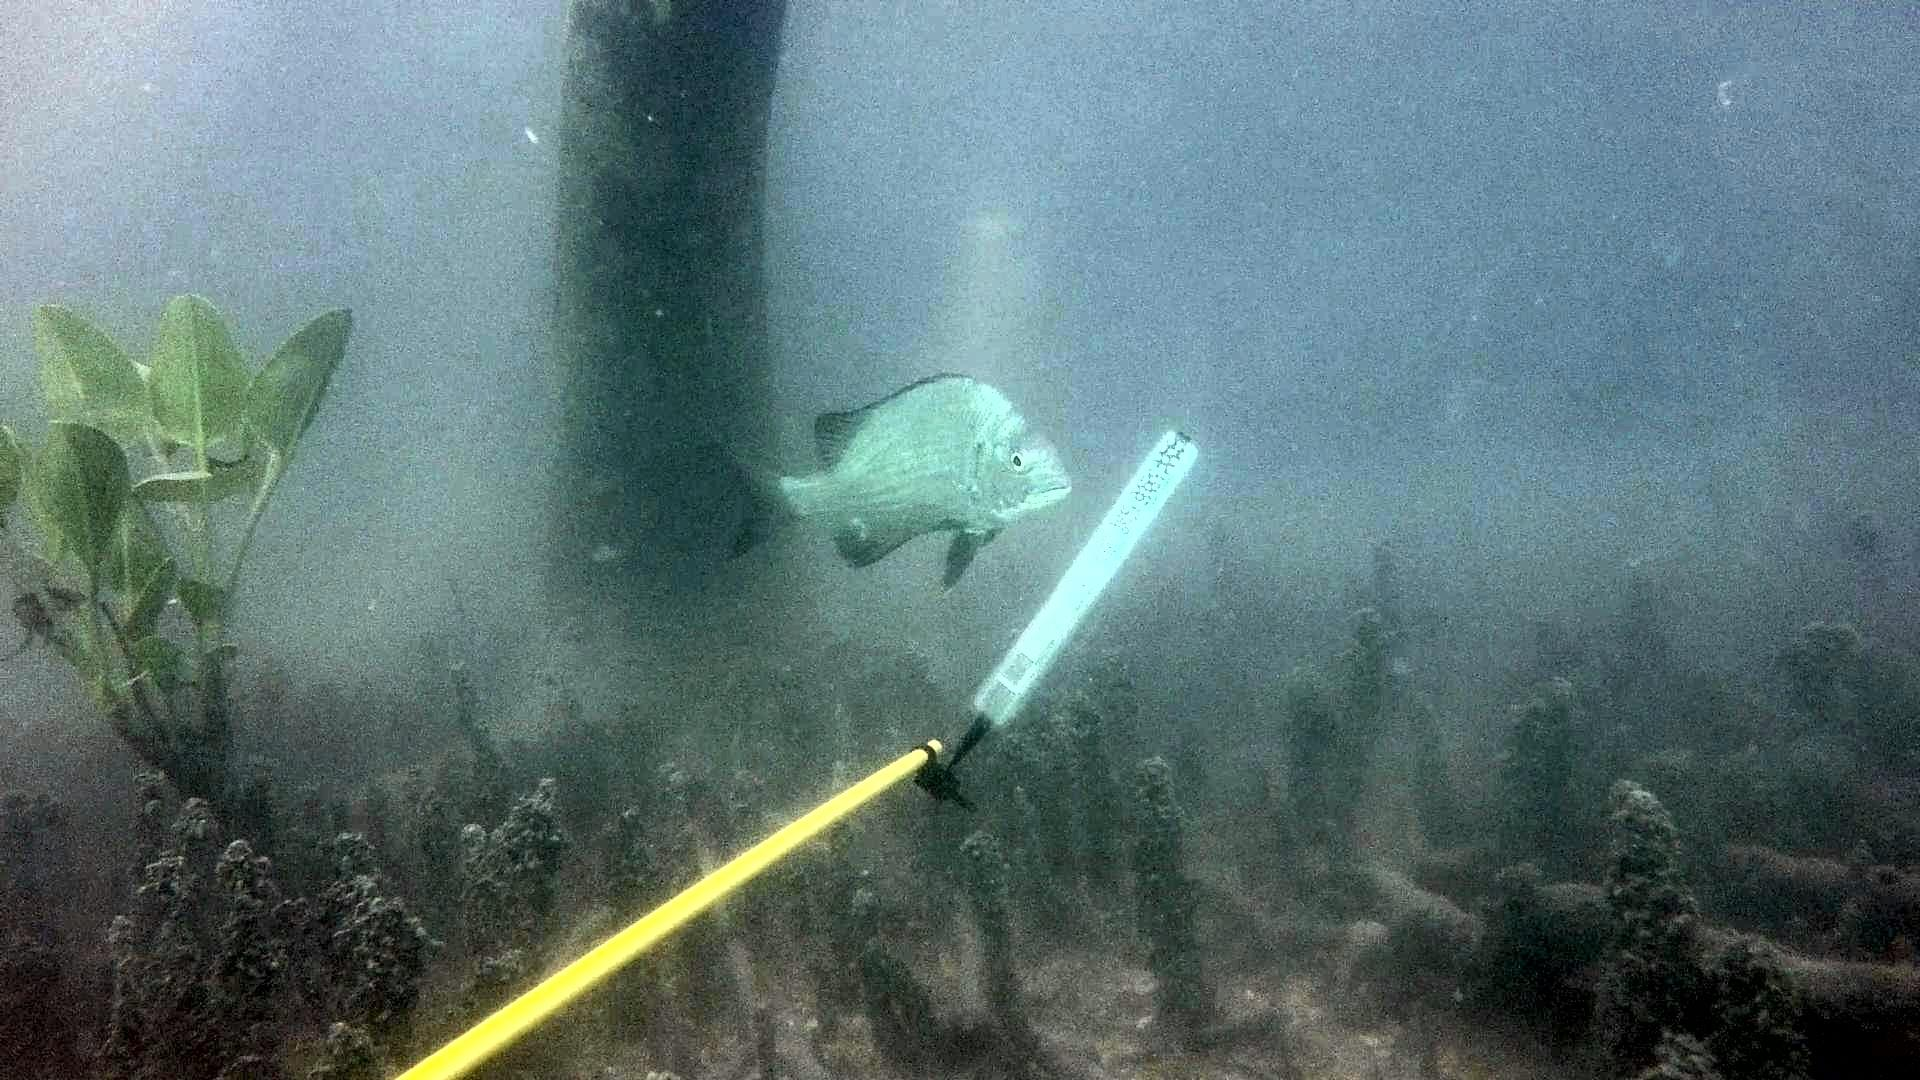acanthopagrus palmaris: (692, 368, 1087, 595)
